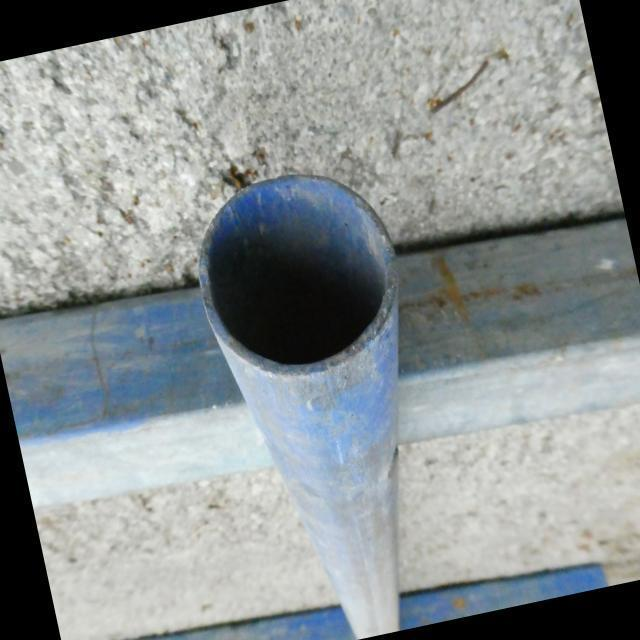pipe: (196, 171, 397, 371)
